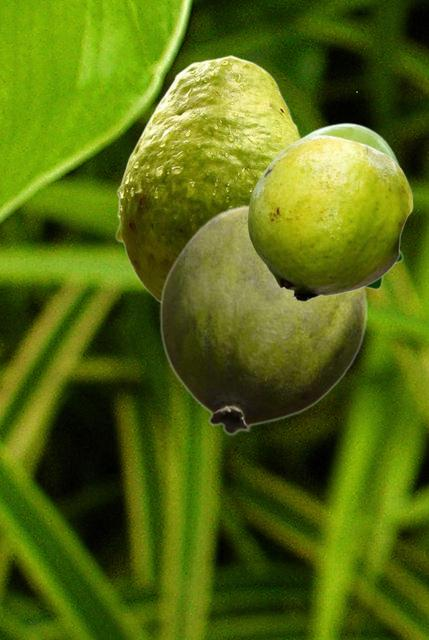guava: (159, 204, 367, 434), (115, 55, 301, 302), (247, 134, 412, 301), (302, 122, 403, 290)
